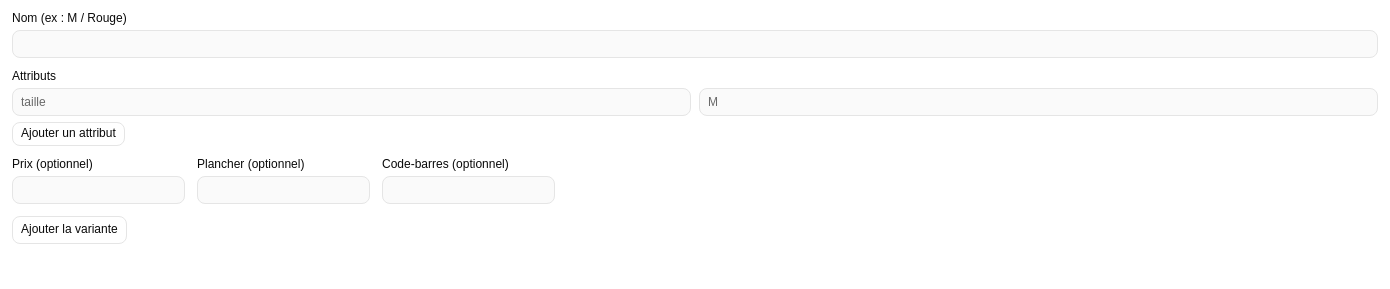
Test: FormulaireVariantes › refuse une variante sans aucun attribut renseigné
The image size is (1390, 289).
Step 1. Type "Unique" into the field labelled "Nom (ex : M / Rouge)" → (695, 44), box top-left (12, 30), bottom-right (1378, 58)
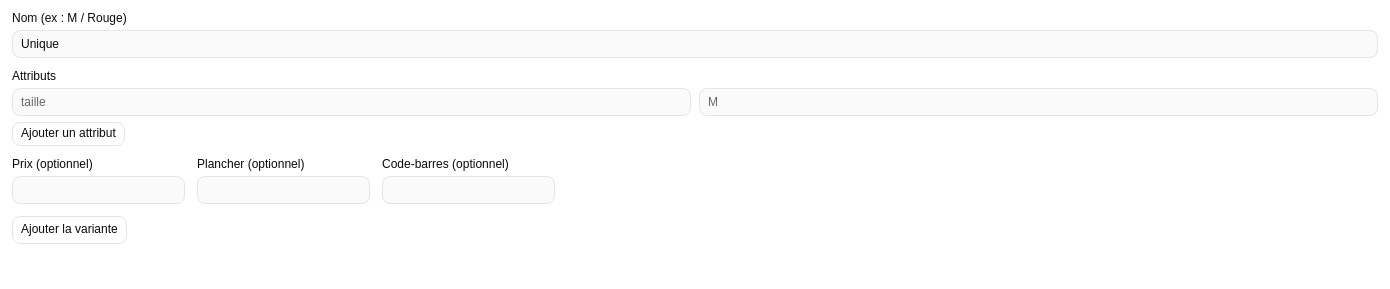
Step 2. Click the button "Ajouter la variante" → click(69, 230), box top-left (12, 216), bottom-right (127, 244)
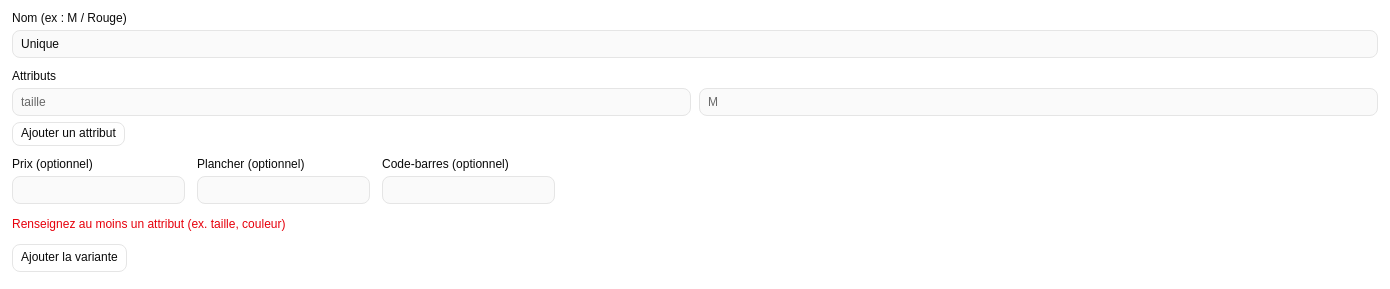
Check: the message shows "attribut", box top-left (12, 217), bottom-right (286, 231)
